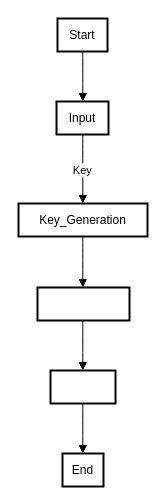
Some shapes in this 165 by 504 pixel diagram are drawn without their labels. Here are the shapes that lost their labels. From the top down, the centre of each, then its label:
point (83, 303): Encryption
point (82, 386): Output
